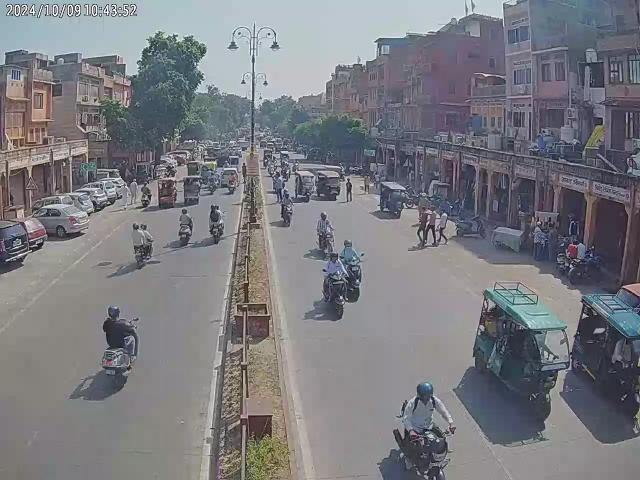auto: (471, 283, 570, 416), (570, 292, 640, 408), (376, 180, 408, 217), (316, 170, 341, 200), (158, 176, 178, 210), (294, 170, 314, 202), (182, 174, 202, 204)
car: (30, 200, 90, 238), (74, 176, 126, 210)
helmet: (414, 382, 434, 400), (106, 305, 121, 318), (329, 250, 338, 262), (343, 240, 355, 249), (140, 223, 148, 231), (321, 212, 328, 221), (132, 222, 139, 230), (181, 208, 188, 214), (210, 204, 216, 210), (284, 192, 290, 198), (217, 204, 220, 210)
motorbike: (568, 254, 602, 284)
motorbike-rider: (390, 378, 458, 480), (130, 222, 155, 268), (315, 212, 335, 254), (208, 204, 224, 243), (282, 190, 294, 227)
person: (416, 205, 438, 249), (531, 223, 548, 261), (274, 172, 286, 200), (128, 178, 138, 206), (345, 177, 353, 202)
scooty: (454, 212, 487, 240)
scooty-rider: (98, 304, 142, 387), (320, 250, 348, 316), (338, 240, 365, 298), (177, 209, 193, 245), (140, 180, 152, 206)
